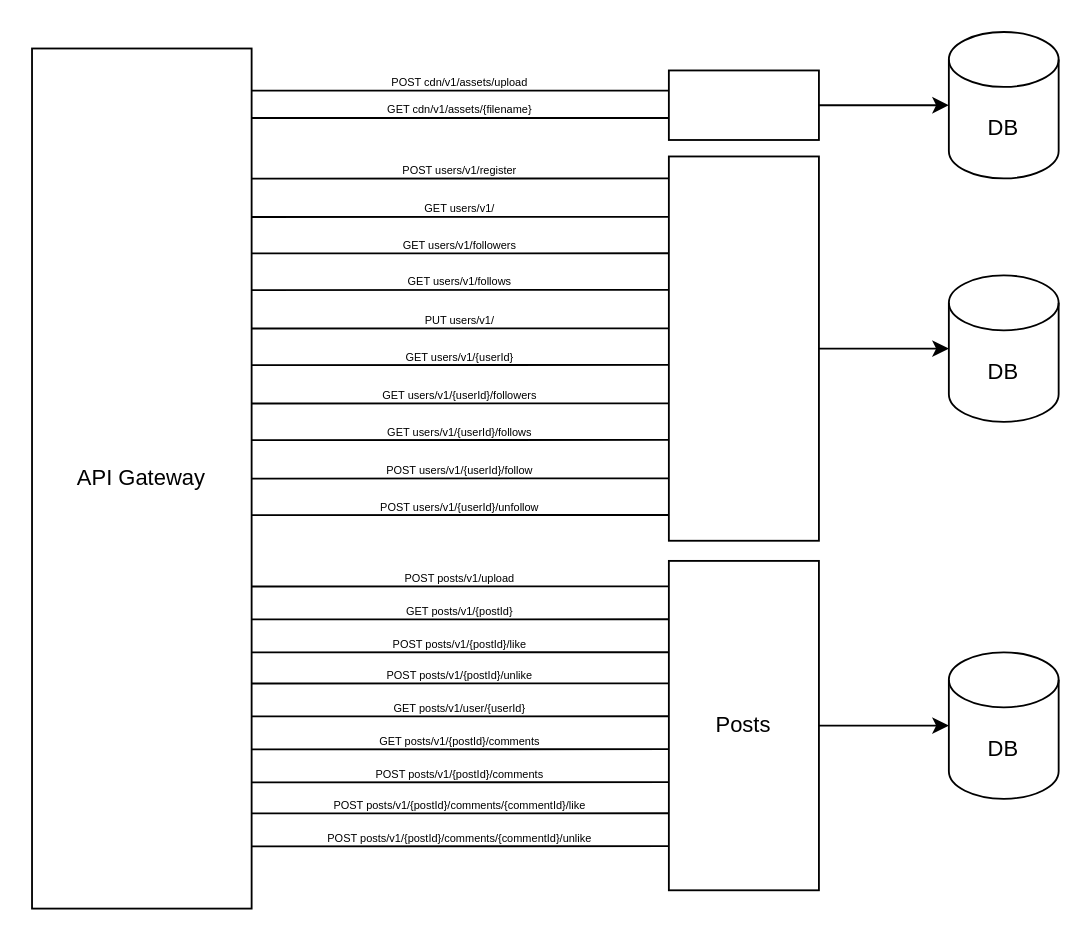
This 1091x941 diagram has some shape labels left out. The centre of each missing label's shape, as x and y in pixels:
"CDN" belongs at point 743,104.
"User Management" belongs at point 743,348.
